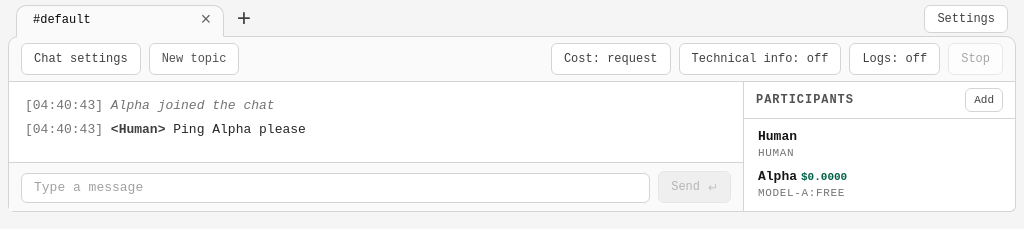
MultiAgentChat composer › inserts participant mention when double clicking message sender
Double-click the text with class "chat-line-sender" at (138, 130), box x1=111 y1=122 x2=165 y2=137
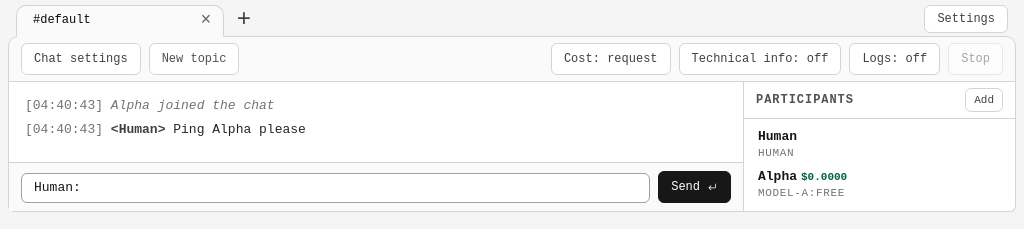
Now the text box holds "Human: ", box x1=21 y1=173 x2=650 y2=203
